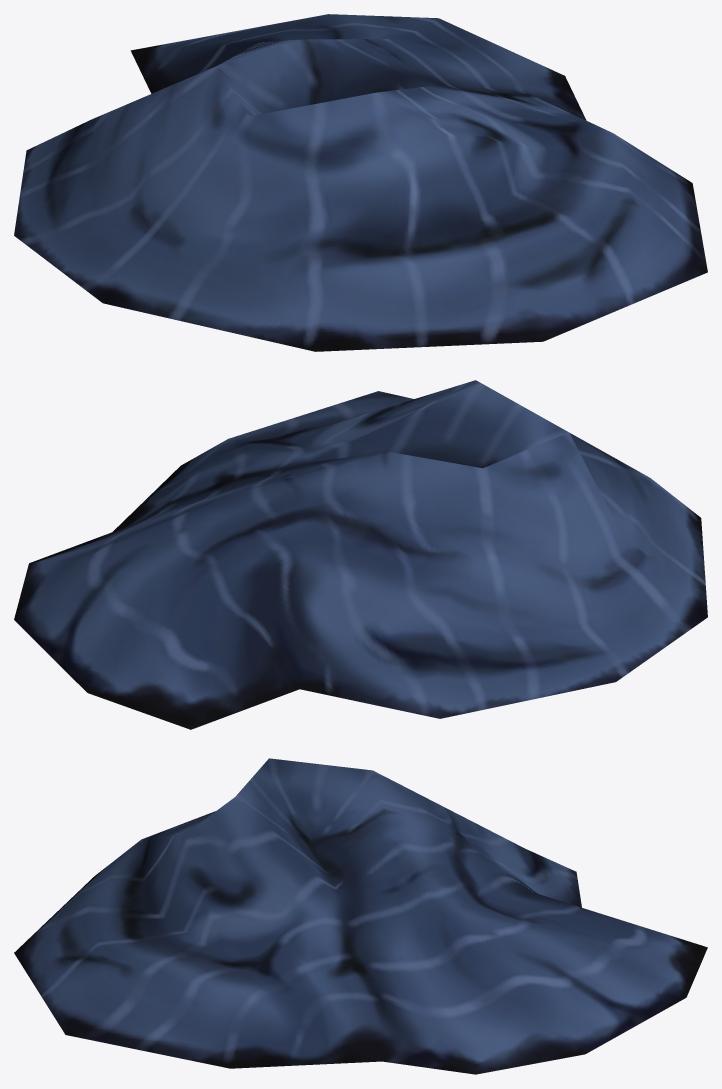
The model's file is GAM_LootCloth.FBX.
The picture shows the model from 3 angles, top to bottom: view 1: azimuth 30°, elevation 25°; view 2: azimuth 150°, elevation 25°; view 3: azimuth 270°, elevation 25°; orthographic projection. The views are drawn at different scales.
Visible parts, largest first — view 1: GAM_LootCloth; view 2: GAM_LootCloth; view 3: GAM_LootCloth.
Part boxes in pixels (x1,y1,x2,y2): GAM_LootCloth: [14, 14, 707, 351]; GAM_LootCloth: [14, 380, 707, 729]; GAM_LootCloth: [14, 758, 707, 1074].
Bounding box in the file's own units: 48.24 × 13.03 × 57.8.
